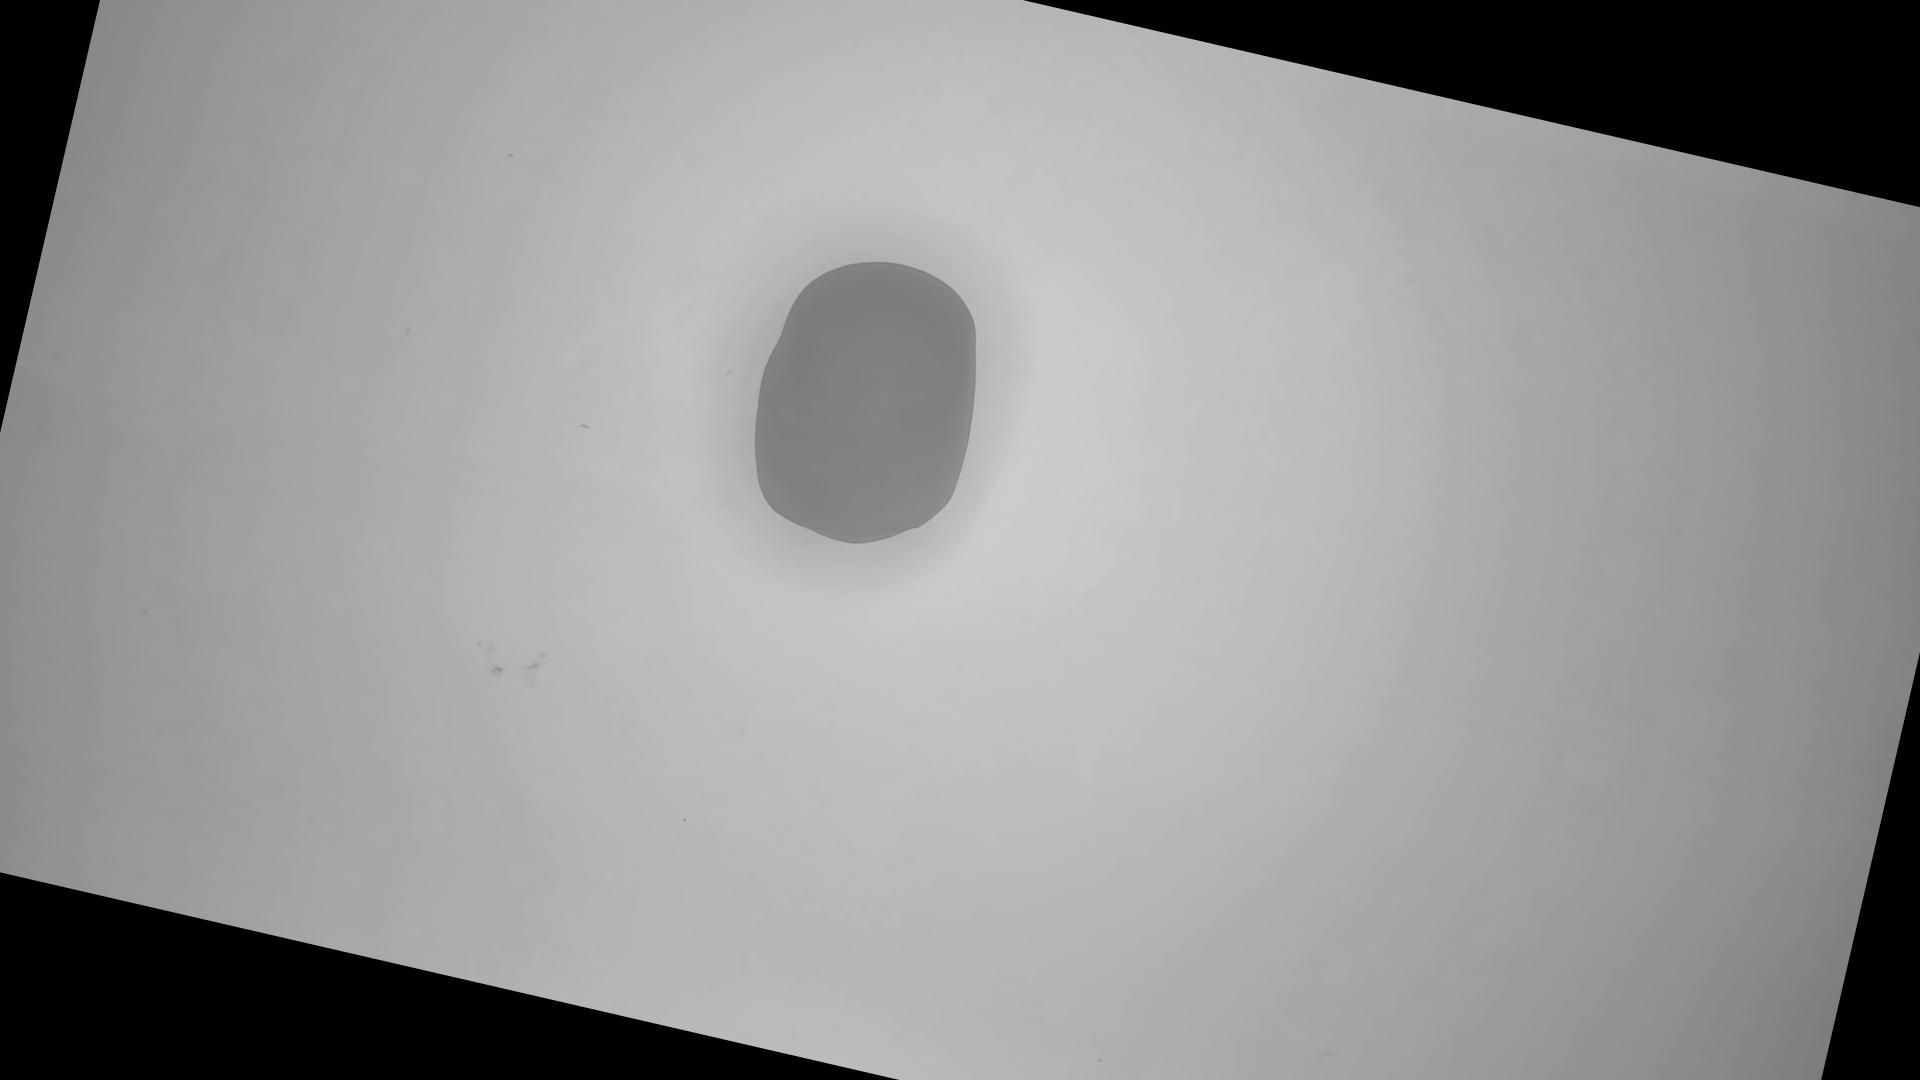abnormal: (727, 237, 1010, 568)
